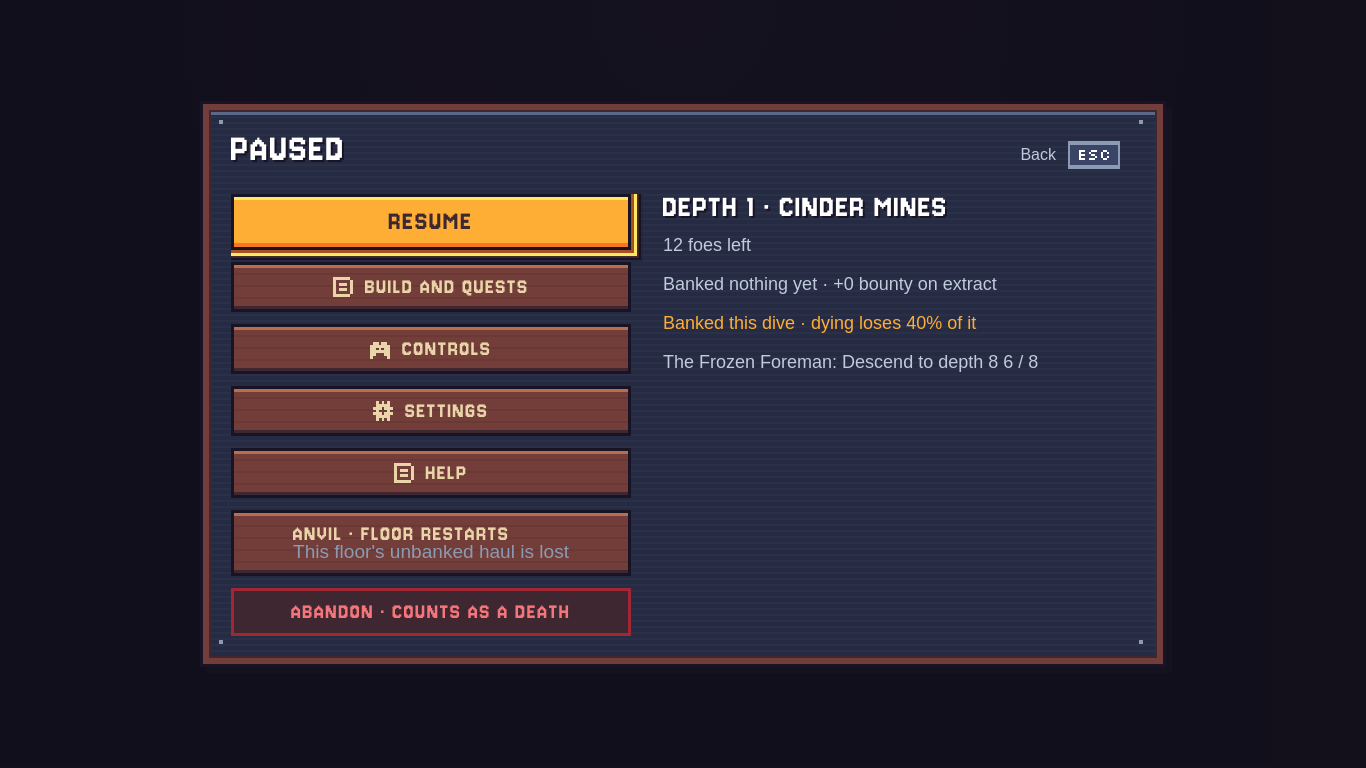
Test: PauseScreen › is a pad scope: Paused, the floor, the tabs with the Forge locked, and the gear note
Click the button with test id "pause-build": (431, 287) top-left (231, 262), bottom-right (631, 312)
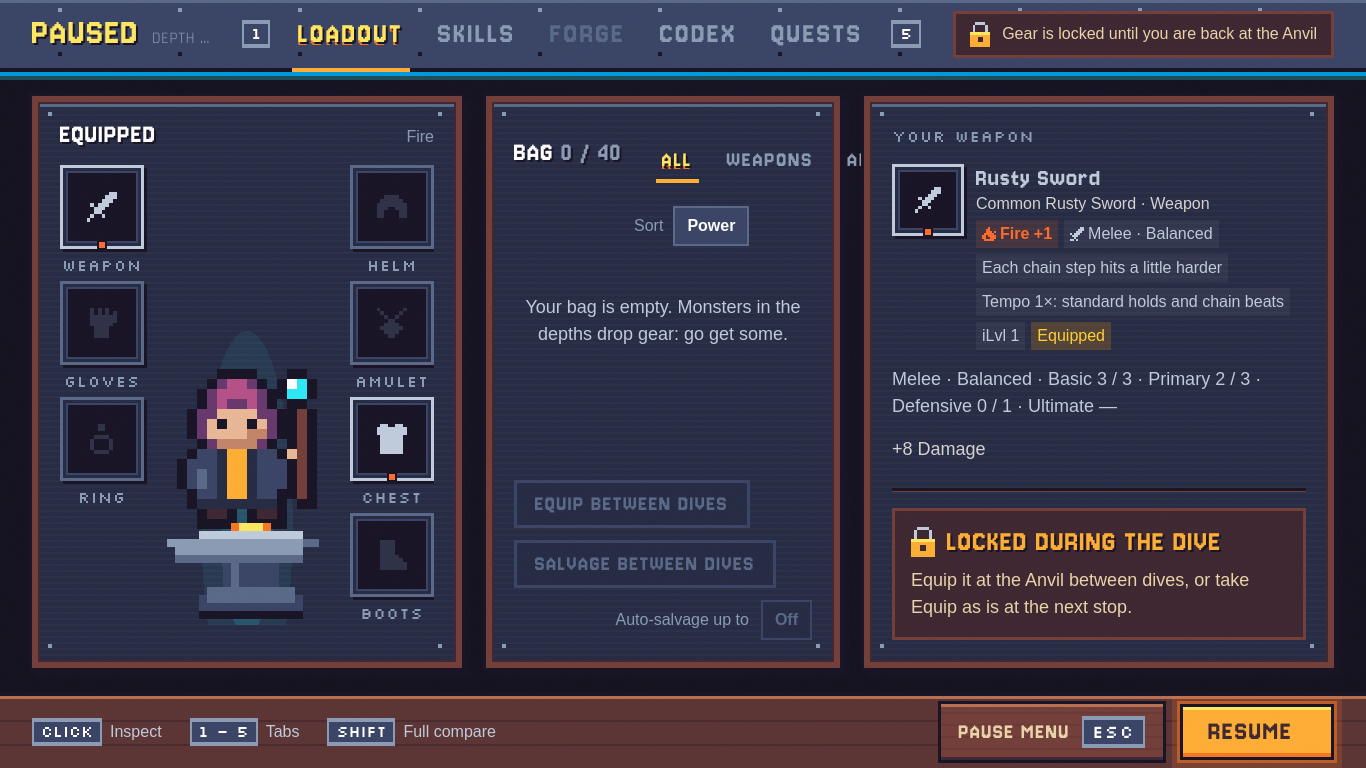
Check: the header shows "Paused", box top-left (32, 12), bottom-right (140, 52)
Check: the tab with test id "tab-forge" is disabled, box top-left (544, 0), bottom-right (632, 72)
Check: the element with test id "pause-note" reads "Gear is locked until you are back at the Anvil", box top-left (1002, 25), bottom-right (1317, 42)
